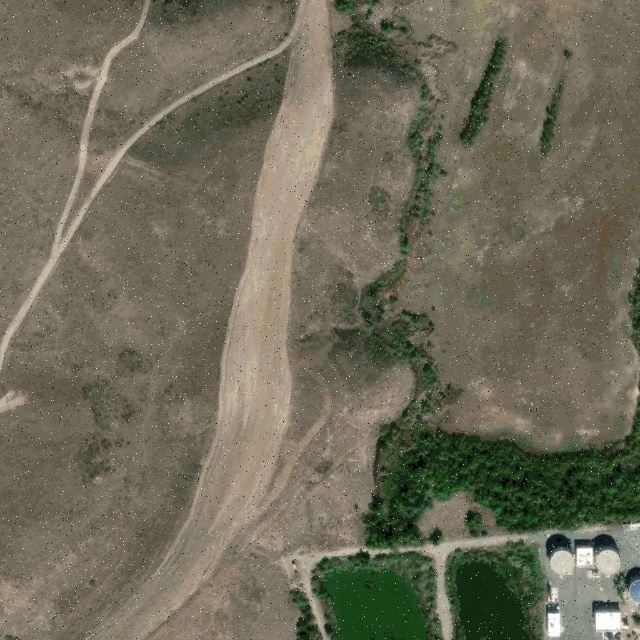vegetation: (329, 0, 640, 546), (314, 553, 444, 640), (445, 543, 548, 640), (456, 34, 509, 152), (540, 57, 564, 162), (284, 588, 321, 640), (629, 265, 640, 361)
